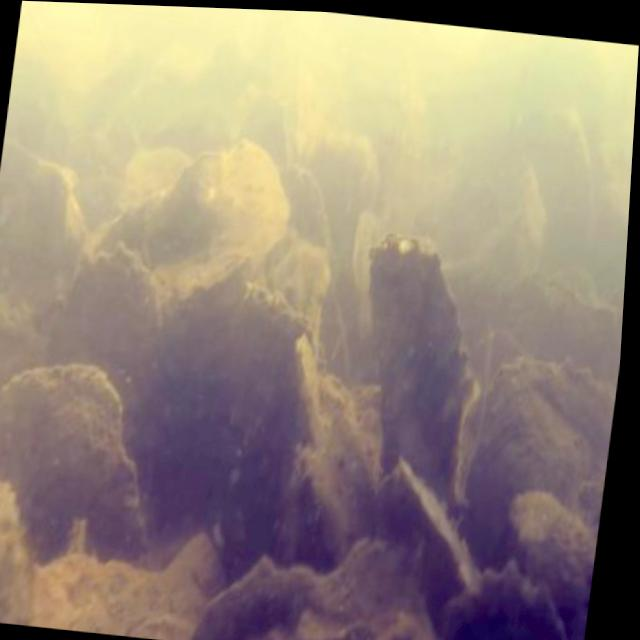Oyster-Indeterminate: (94, 144, 289, 311), (371, 234, 480, 524), (0, 364, 147, 549), (196, 534, 440, 640), (51, 245, 167, 411), (499, 491, 597, 611), (202, 285, 305, 383), (441, 563, 564, 640)
